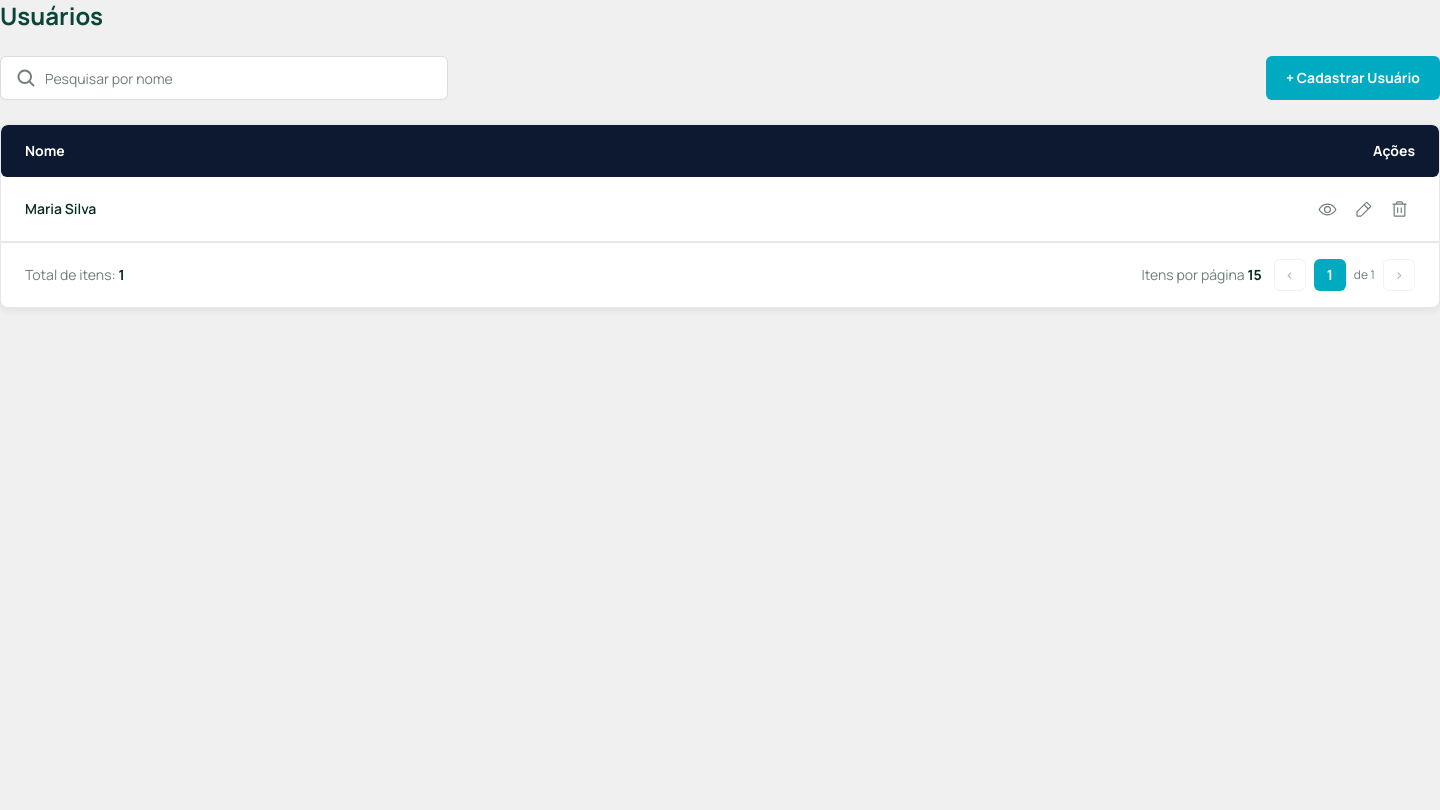
user deletion › cancels without requesting deletion
Expected: the text "Maria Silva" is shown, [1,177,1287,242]
Click the button named "Excluir usuário" at (1399, 209), box [1383,193,1415,225]
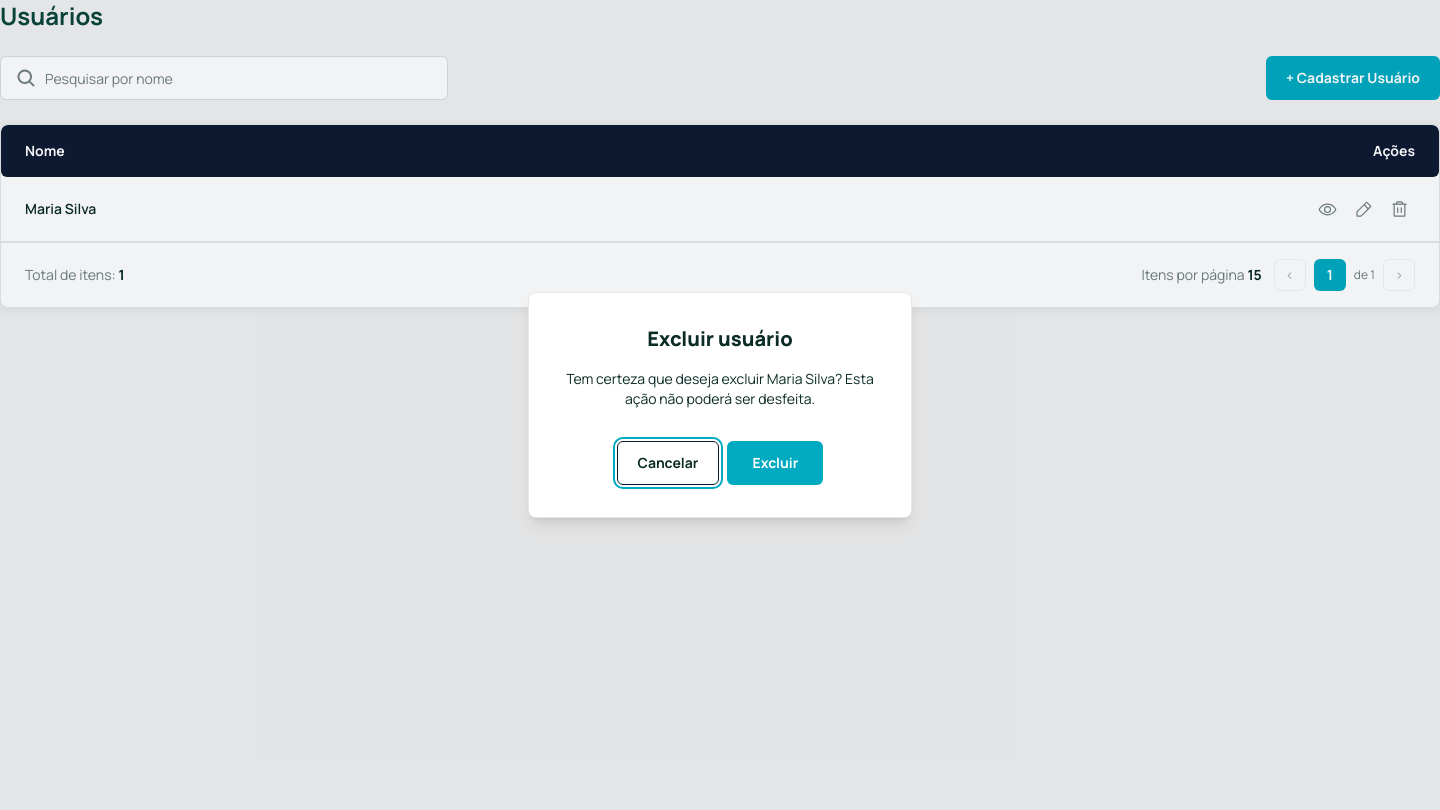
Click the button "Cancelar" at (668, 463), box [616,441,719,485]
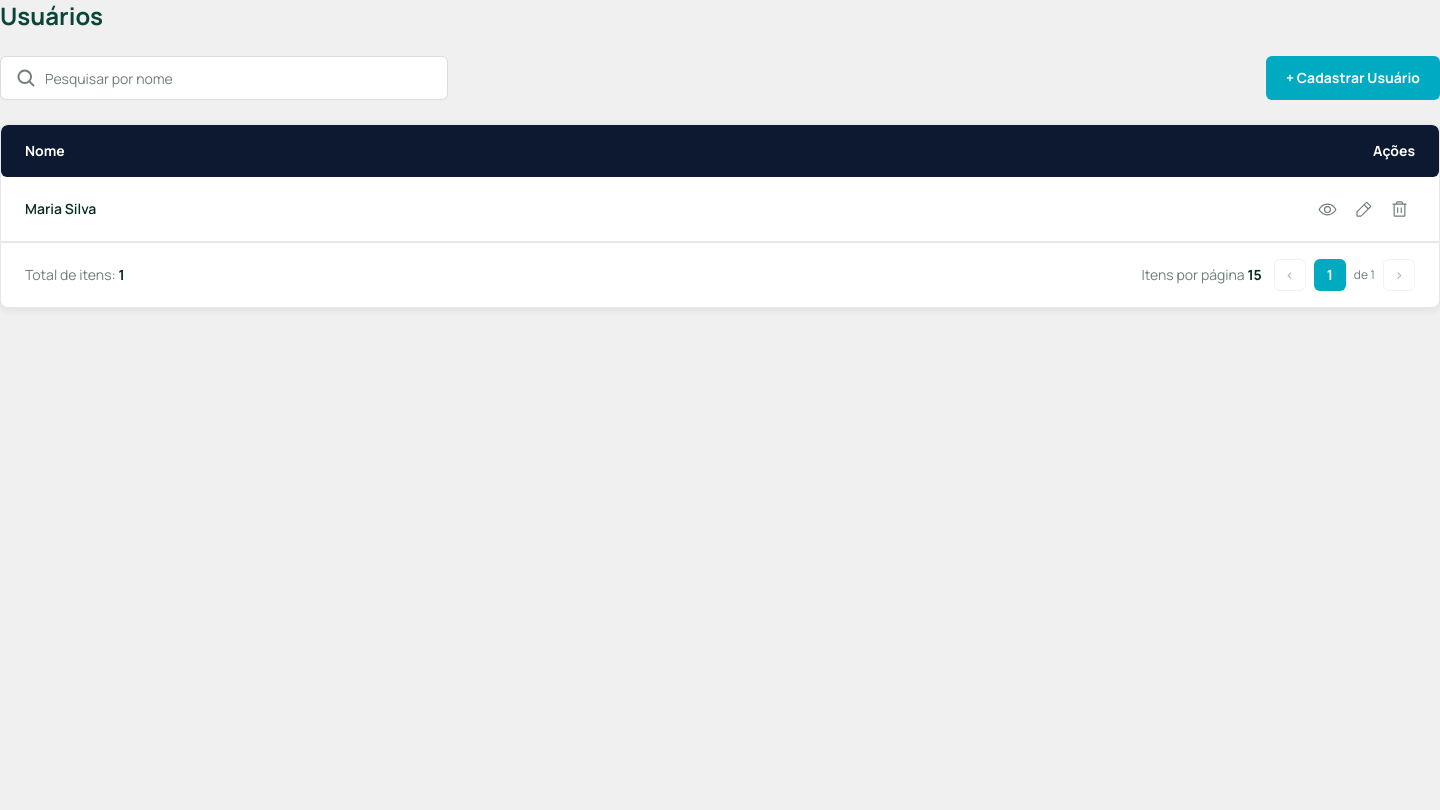
Now the dialog is gone
